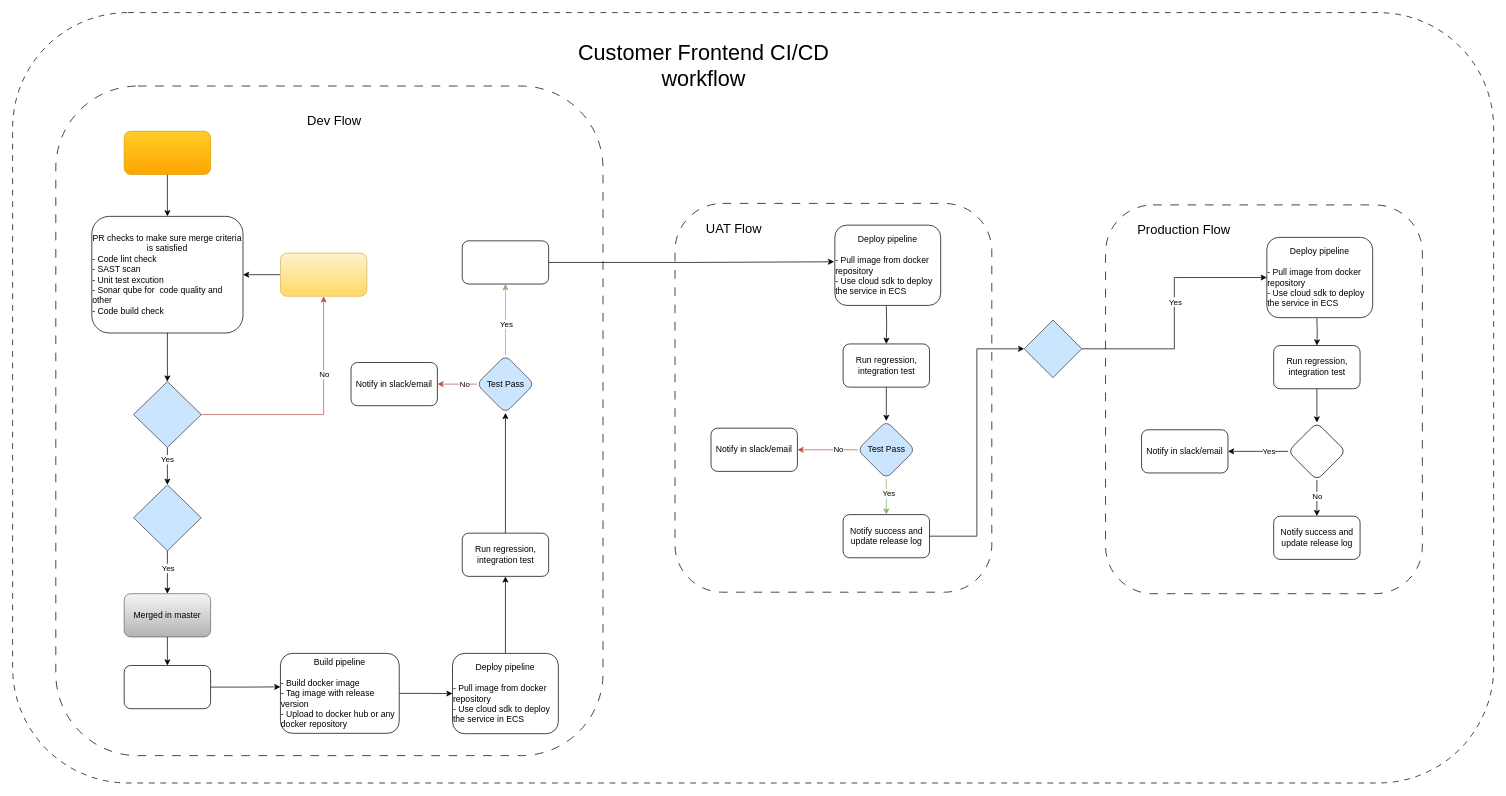
Image size: 1506x796. Some labels were removed from this diagram. Each missing label, with the centre of its shape:
Approve: the point at 1052,348
Check Pass: the point at 167,414
Create release tag and update change history: the point at 167,687
New Commit: the point at 323,274
New PR raised: the point at 167,152
Notify success and update release log and initiate QA deployment: the point at 505,262
PR reviewed: the point at 167,517
Test failed: the point at 1316,451
